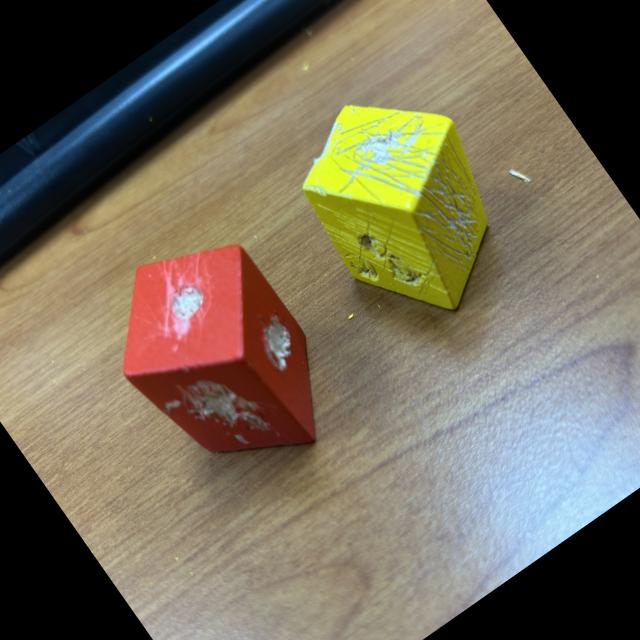broken: (77, 208, 360, 510), (269, 57, 542, 346)
